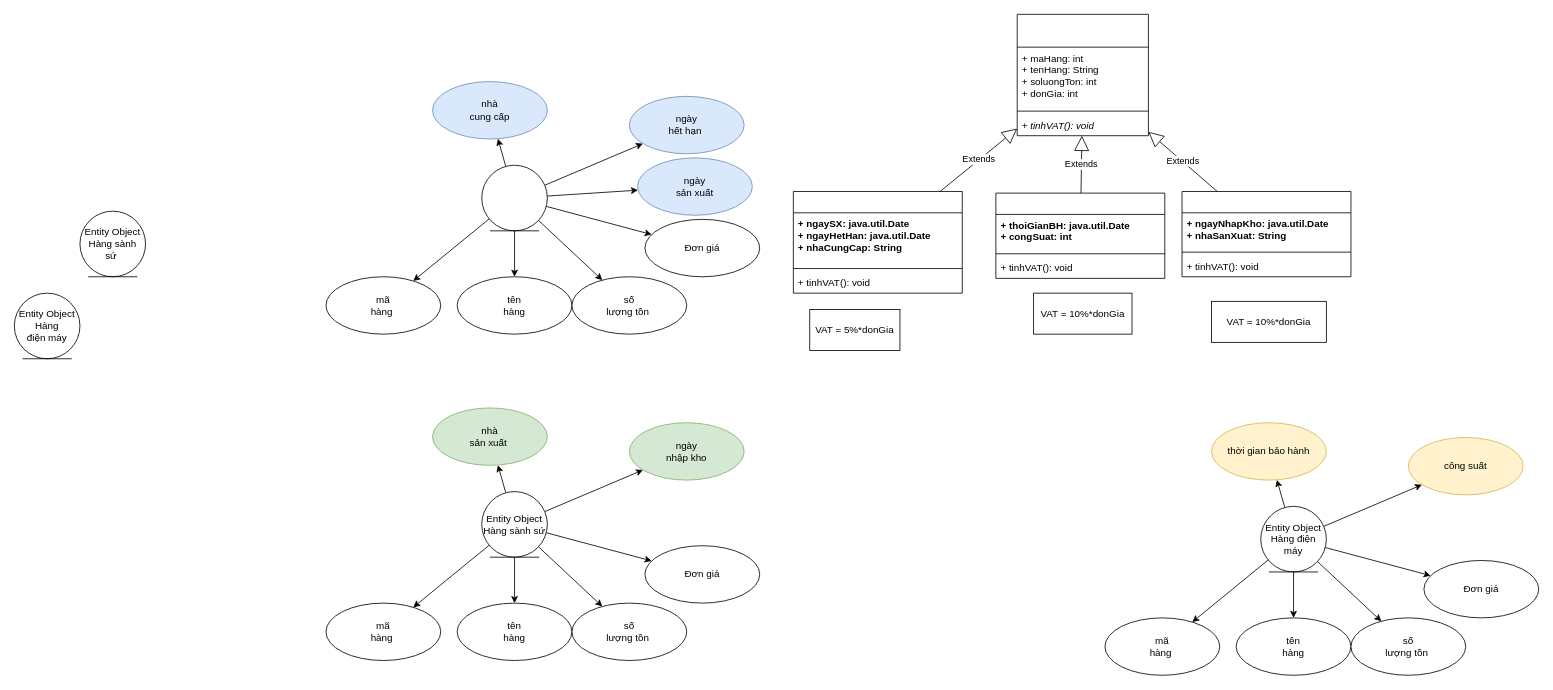
This 1553x690 diagram has some shape labels left out. The shapes that lost their labels are listed below. From the top down, each one's box as (x1, y1, x2, y2) in pixels, then its label:
(1016, 14, 1148, 136): <<abstract>> HangHoa
(481, 164, 547, 231): Entity Object Hàng thực phẩm
(793, 191, 962, 293): HangThucPham
(995, 192, 1165, 278): HangDienMay
(1181, 191, 1351, 277): HangSanhSu
